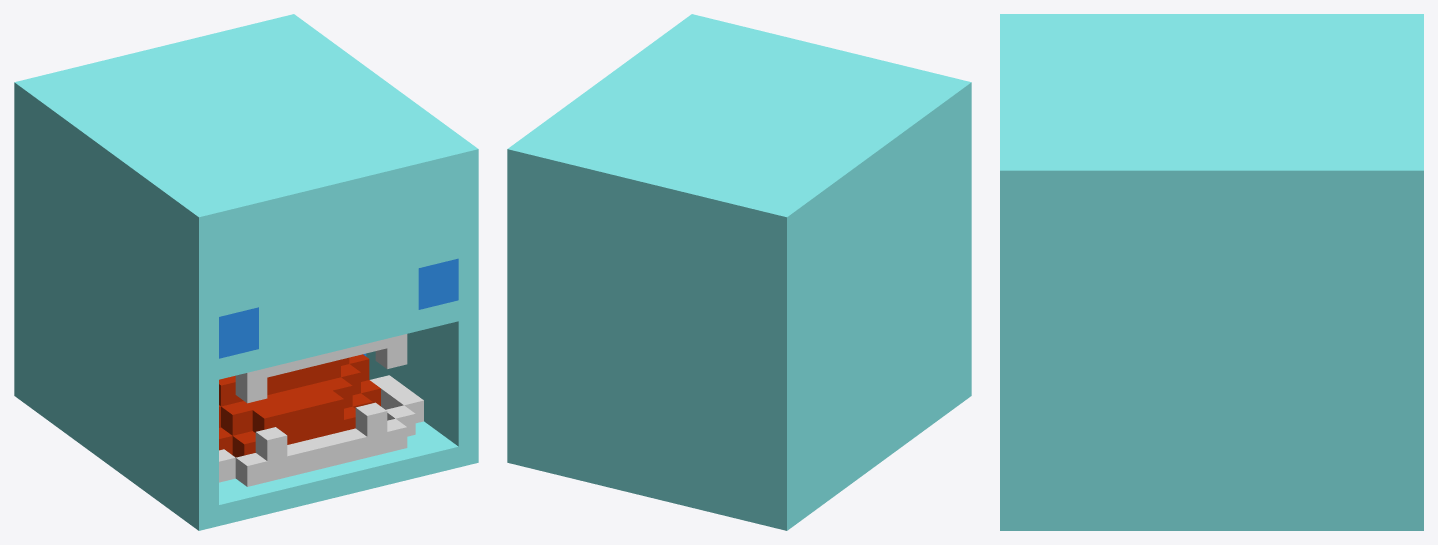
File: iceAnim2.obj
The picture shows the model from 3 angles, left to right: view 1: azimuth 30°, elevation 25°; view 2: azimuth 150°, elevation 25°; view 3: azimuth 270°, elevation 25°; orthographic projection. The views are drawn at different scales.
Bounding box in the file's own units: 14 × 15 × 16.
1 material, 1 textured.
